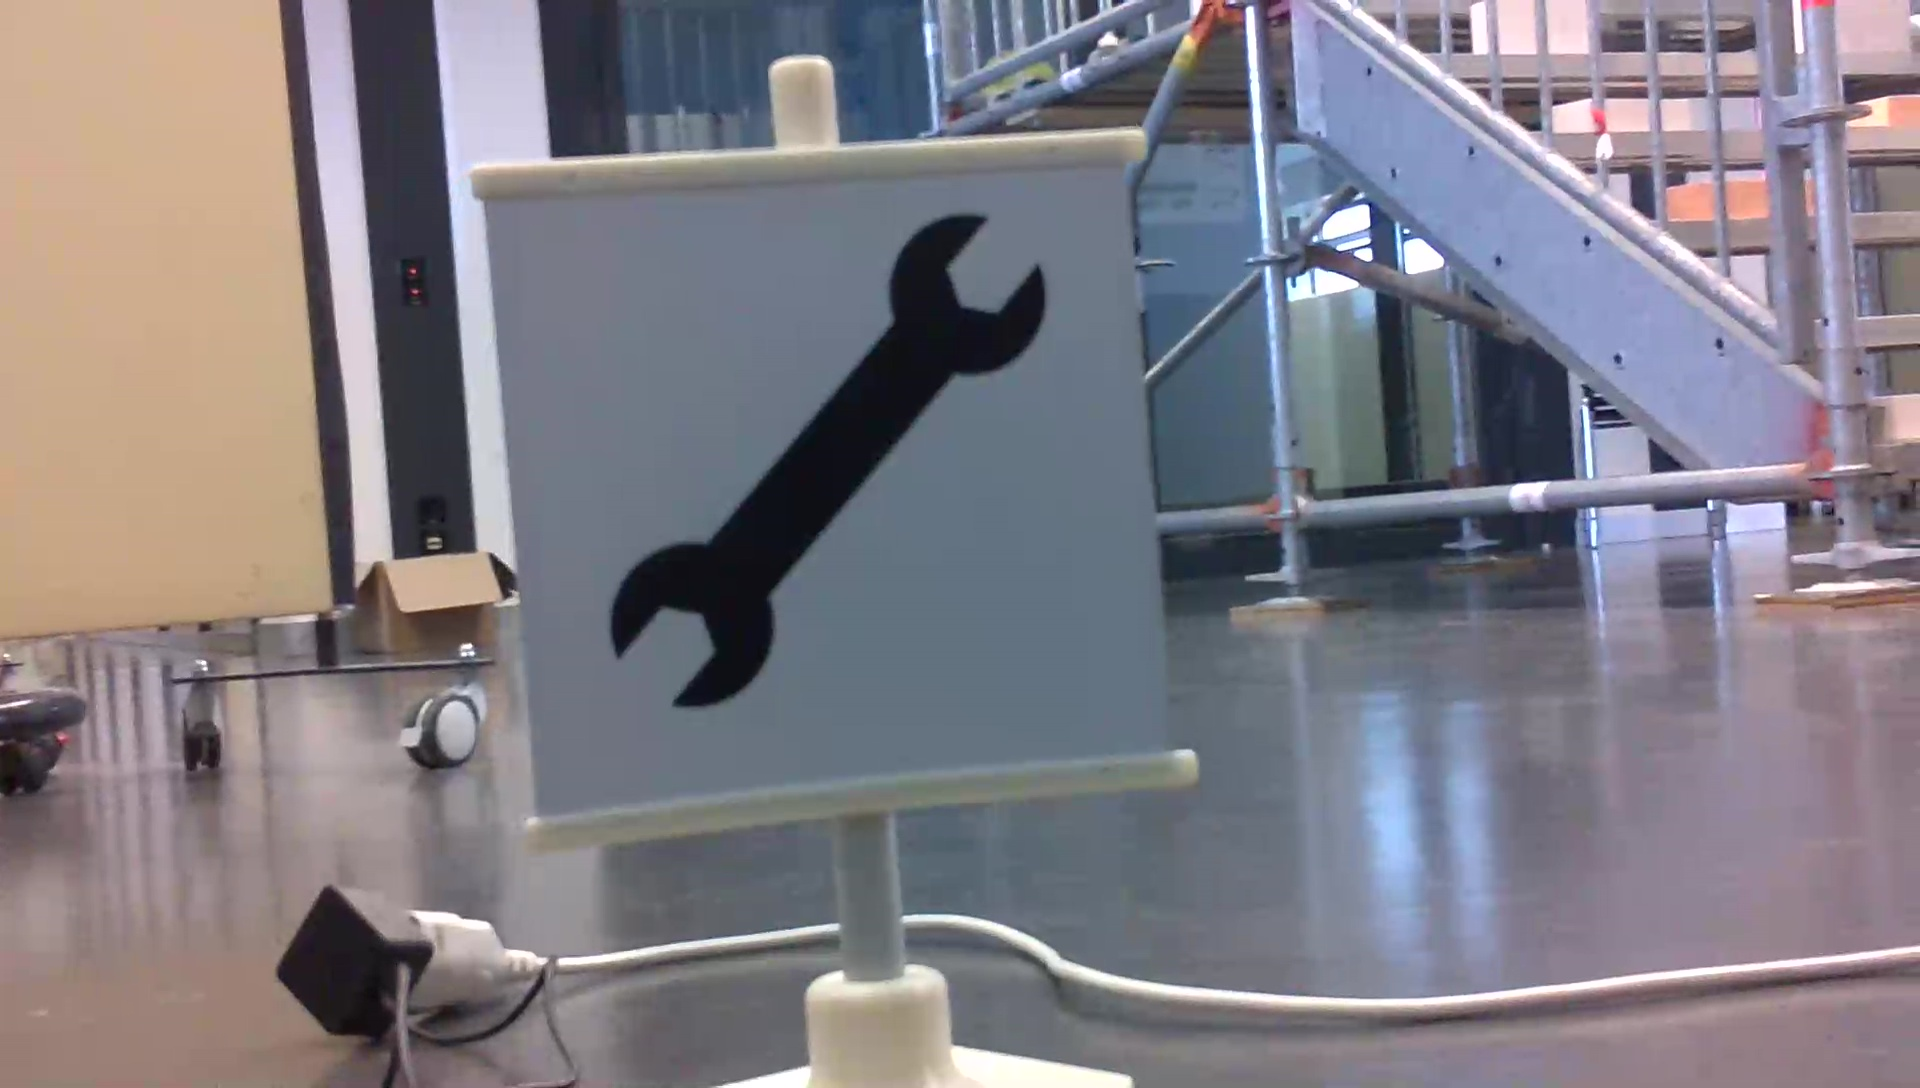brick: (1861, 98, 1920, 125), (1888, 390, 1920, 438)
wrench: (597, 200, 1054, 717)
